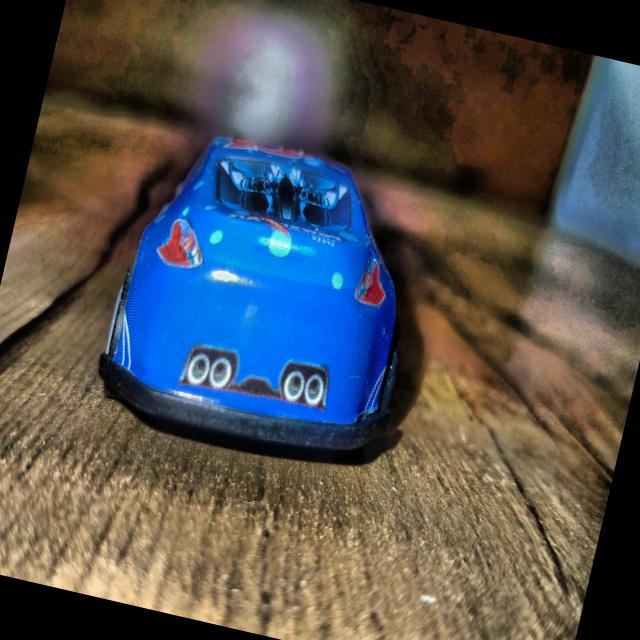Car: (90, 118, 442, 470)
